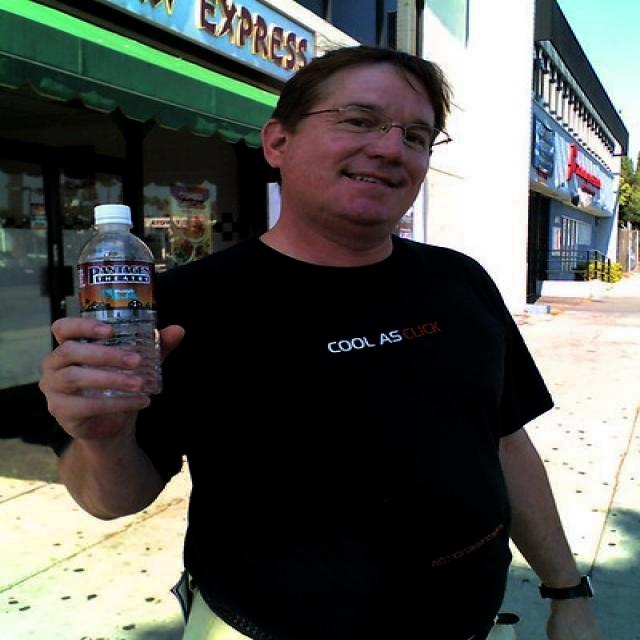bottle: (76, 205, 162, 399)
